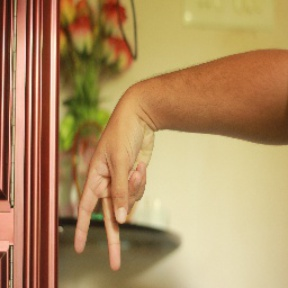Y: (66, 103, 159, 275)
